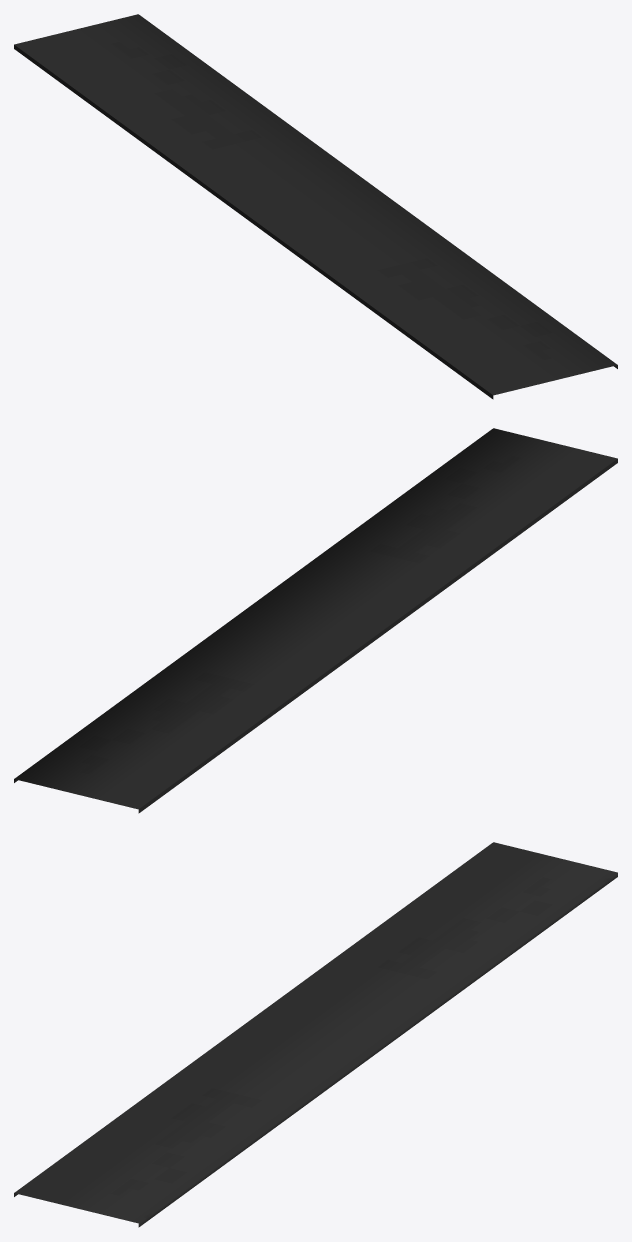
The model's file is wall_bottom_straight.glb.
3 views of the same model, one above another, from view 1: azimuth 30°, elevation 25°; view 2: azimuth 150°, elevation 25°; view 3: azimuth 330°, elevation 25° (orthographic).
Visible parts, largest first — view 1: BottomSimple_Straight; view 2: BottomSimple_Straight; view 3: BottomSimple_Straight.
Part boxes in pixels (left/top/right/bottom): BottomSimple_Straight: left=14, top=14, right=617, bottom=399; BottomSimple_Straight: left=14, top=428, right=617, bottom=813; BottomSimple_Straight: left=14, top=842, right=617, bottom=1227.
Size of the model in its own units: 0.6 by 0.02 by 4.
1 material, 1 textured.
